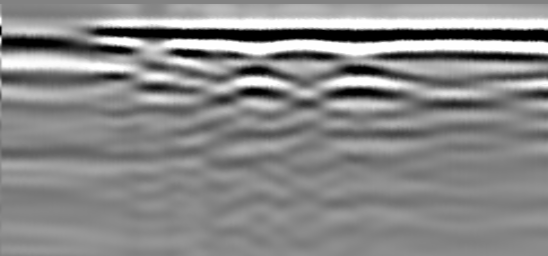pipe: (5, 25, 126, 55)
steel: (250, 47, 356, 61)
